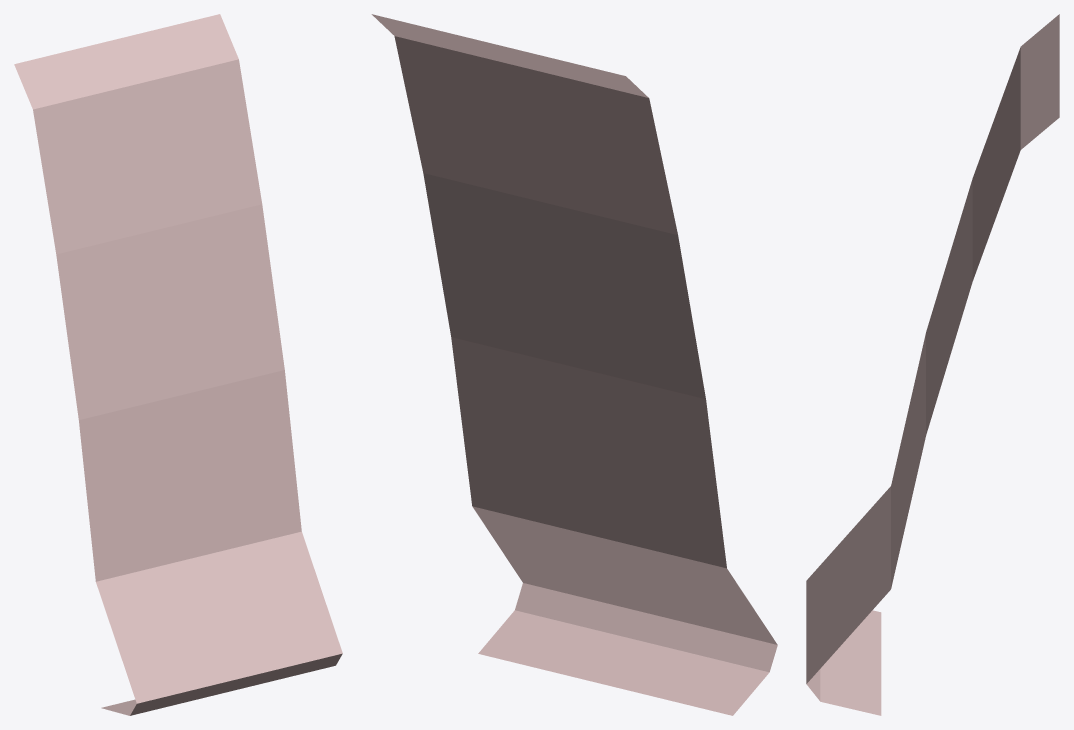
The model's file is castle_roof_side.fbx.
3 views of the same model, side by side, from view 1: azimuth 30°, elevation 25°; view 2: azimuth 150°, elevation 25°; view 3: azimuth 270°, elevation 25° (orthographic). The views are drawn at different scales.
Visible parts, largest first — view 1: castle_roof_side_01; view 2: castle_roof_side_01; view 3: castle_roof_side_01.
Boxes of the visible parts, x1=… form: castle_roof_side_01: x1=14, y1=14, x2=342, y2=715; castle_roof_side_01: x1=371, y1=14, x2=777, y2=715; castle_roof_side_01: x1=806, y1=14, x2=1059, y2=715.
Size of the model in its own units: 8 by 21.53 by 8.25.
